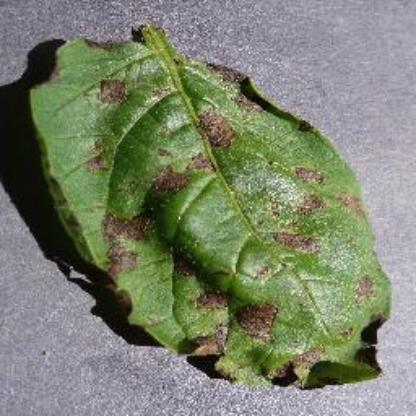Early-Blight: (23, 14, 394, 392)
